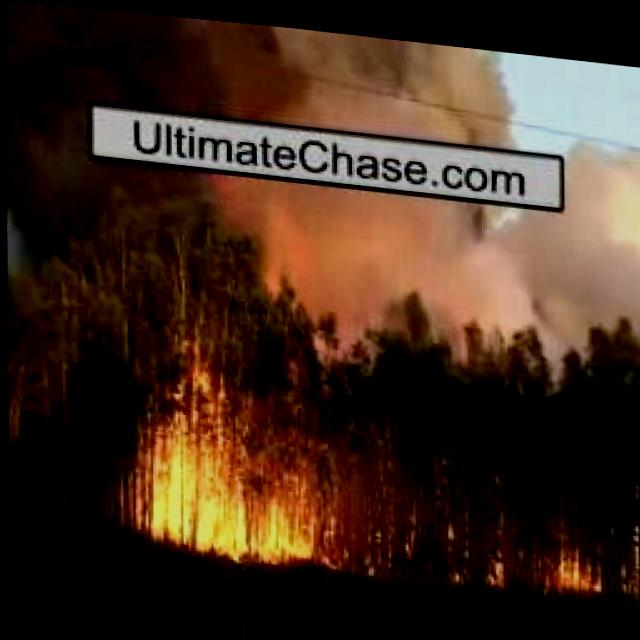helmet: (129, 408, 322, 561), (321, 511, 410, 570), (437, 520, 505, 586), (546, 539, 600, 583), (623, 514, 640, 587)
no_helmet: (3, 154, 640, 439), (3, 0, 531, 142)
